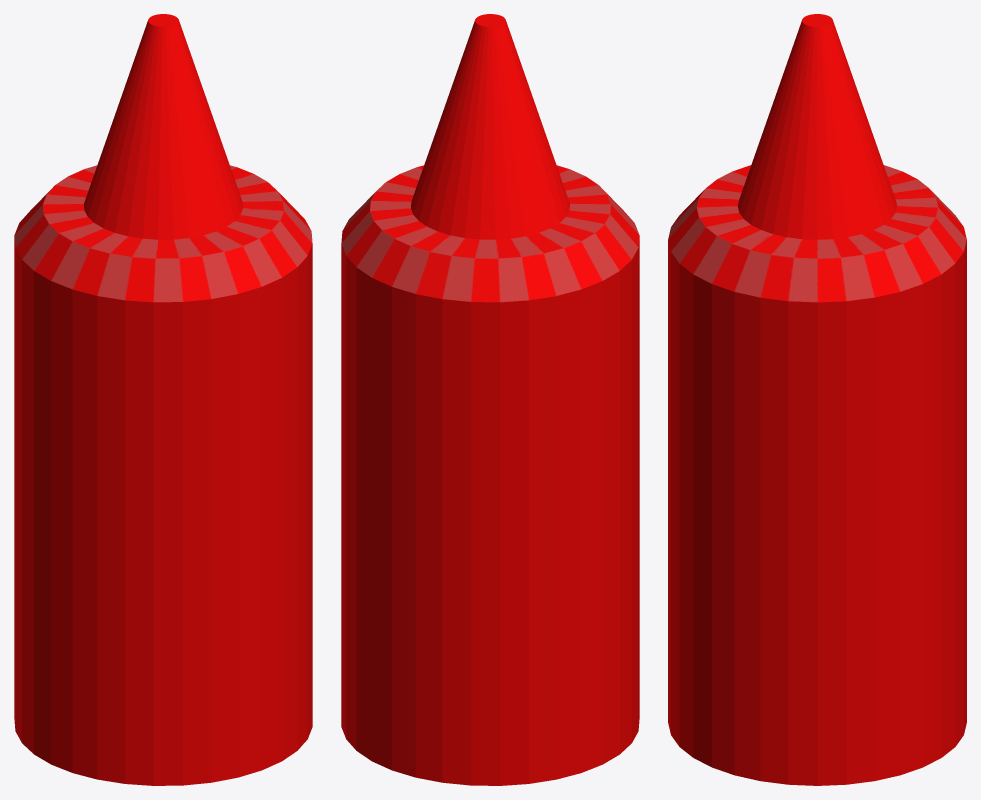
File: bothel.fbx
3 views of the same model, side by side, from view 1: azimuth 30°, elevation 25°; view 2: azimuth 150°, elevation 25°; view 3: azimuth 270°, elevation 25° (orthographic).
Parts seen in each view (by area): view 1: Cylinder; view 2: Cylinder; view 3: Cylinder.
Part boxes in pixels (x1,y1,x2,y2): Cylinder: [14, 14, 312, 785]; Cylinder: [341, 14, 639, 785]; Cylinder: [668, 14, 966, 785].
Size of the model in its own units: 6.97 by 6.97 by 18.08.
1 material, 1 textured.
